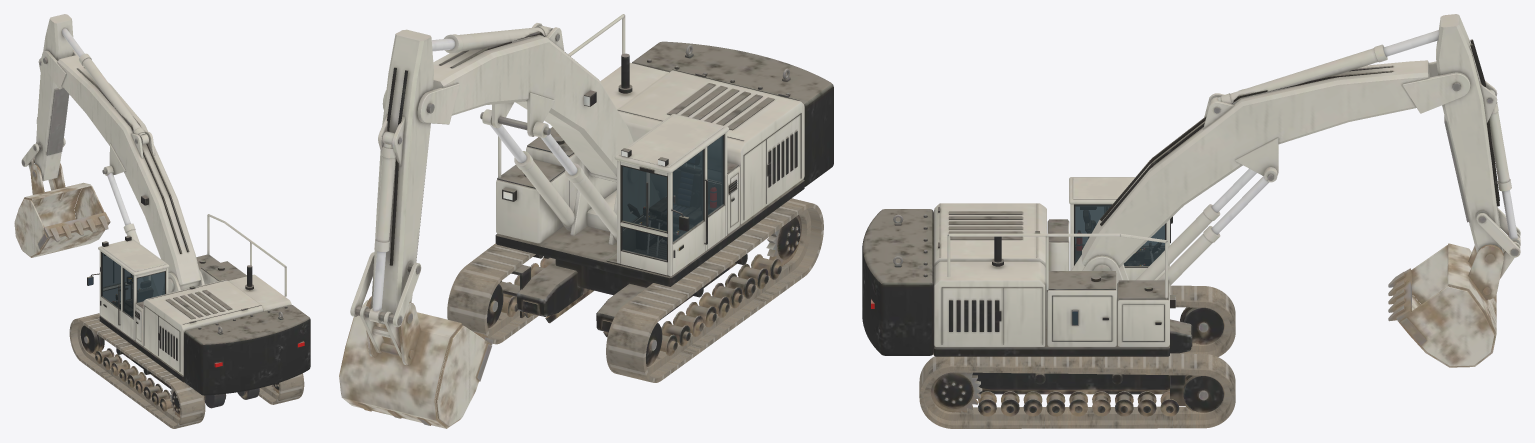
The model's file is excavator-50t.glb.
The picture shows the model from 3 angles, left to right: view 1: azimuth 30°, elevation 25°; view 2: azimuth 150°, elevation 25°; view 3: azimuth 270°, elevation 25°; orthographic projection. The views are drawn at different scales.
Visible parts, largest first — view 1: Boom, Counterweight, EngineCover, Bucket, Track_L, Stick, Cab, Upper, Glass, StickCyl_Barrel, Track_R, Undercarriage (+3 smaller); view 2: Boom, EngineCover, Upper, Bucket, Track_L, Stick, Cab, Counterweight, Glass, Undercarriage, Track_R, BoomCyl_Barrel (+12 smaller); view 3: Boom, EngineCover, Upper, Track_R, Bucket, Counterweight, Stick, Undercarriage, Cab, BoomCyl_Barrel, Track_L, StickCyl_Barrel (+8 smaller).
Boxes of the visible parts, x1,y1,x2,y2 form: Boom: (41,50,201,290); Counterweight: (184,305,310,395); EngineCover: (143,265,291,375); Bucket: (14,163,110,257); Track_L: (69,313,205,428); Stick: (34,14,73,181); Cab: (87,235,169,340); Upper: (99,214,286,382); Glass: (102,252,164,317); StickCyl_Barrel: (79,53,148,144); Track_R: (258,373,304,404); Undercarriage: (123,353,259,408); Boom: (382,23,633,182); EngineCover: (600,53,804,224); Upper: (495,14,804,317); Bucket: (339,296,493,428); Track_L: (606,198,823,382); Stick: (370,29,433,324); Cab: (614,114,728,276); Counterweight: (632,41,833,186); Glass: (622,135,723,260); Undercarriage: (516,259,736,337); Track_R: (447,243,538,344); BoomCyl_Barrel: (514,151,616,240); Boom: (1082,60,1470,267); EngineCover: (934,203,1046,346); Upper: (934,219,1185,405); Track_R: (919,353,1235,428); Bucket: (1388,243,1503,367); Counterweight: (862,209,933,355); Stick: (1436,14,1503,252); Undercarriage: (972,319,1192,394); Cab: (1069,177,1172,280); BoomCyl_Barrel: (1135,204,1220,285); Track_L: (933,285,1235,356); StickCyl_Barrel: (1210,44,1387,104).
Bounding box in the file's own units: 3.55 × 7.01 × 11.26.
2 materials, 1 textured.
